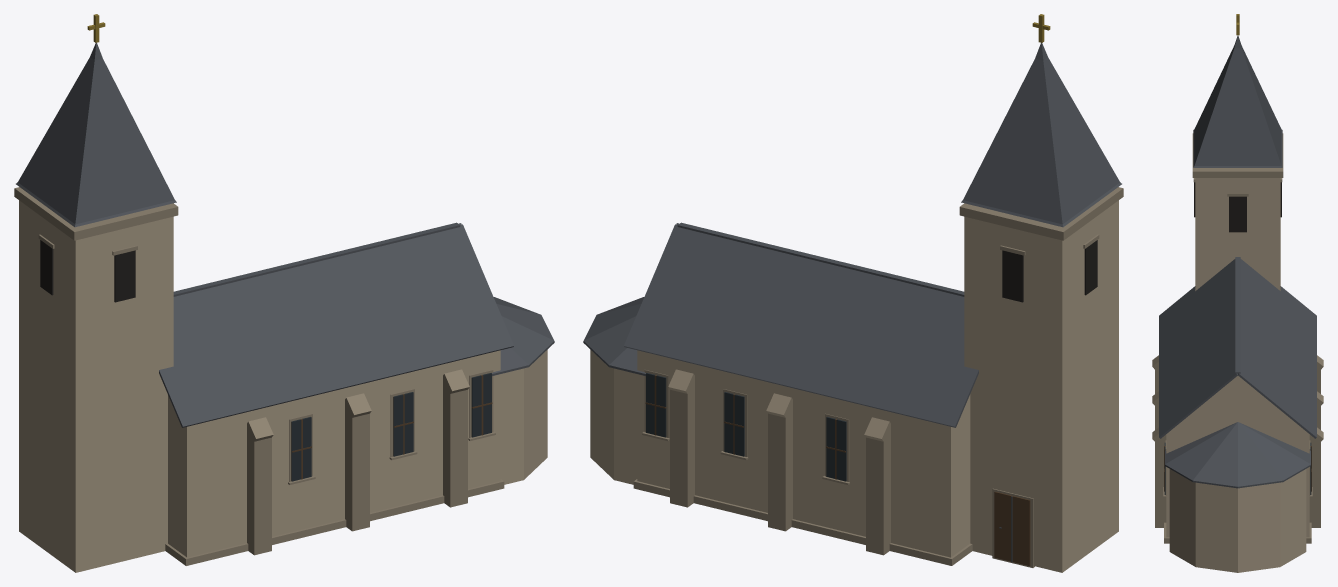
File: church.glb
The picture shows the model from 3 angles, left to right: view 1: azimuth 30°, elevation 25°; view 2: azimuth 150°, elevation 25°; view 3: azimuth 270°, elevation 25°; orthographic projection. The views are drawn at different scales.
Parts seen in each view (by area): view 1: church; view 2: church; view 3: church.
Part boxes in pixels (x1,y1,x2,y2): church: [14, 14, 554, 572]; church: [583, 14, 1123, 572]; church: [1152, 14, 1323, 572].
Bounding box in the file's own units: 25.35 × 25.69 × 10.04.
